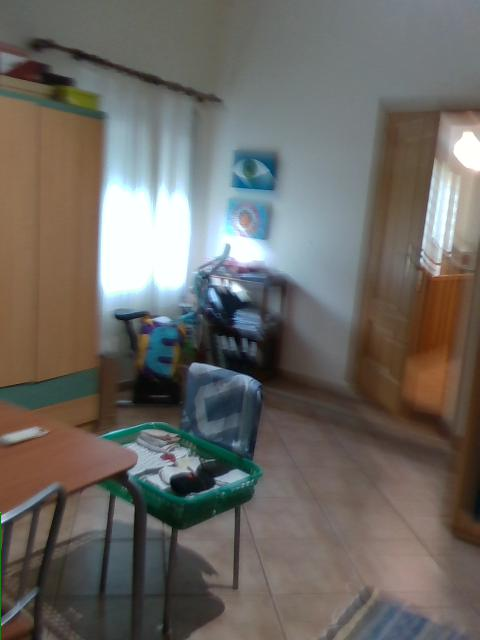semi_door: (347, 100, 479, 448)
